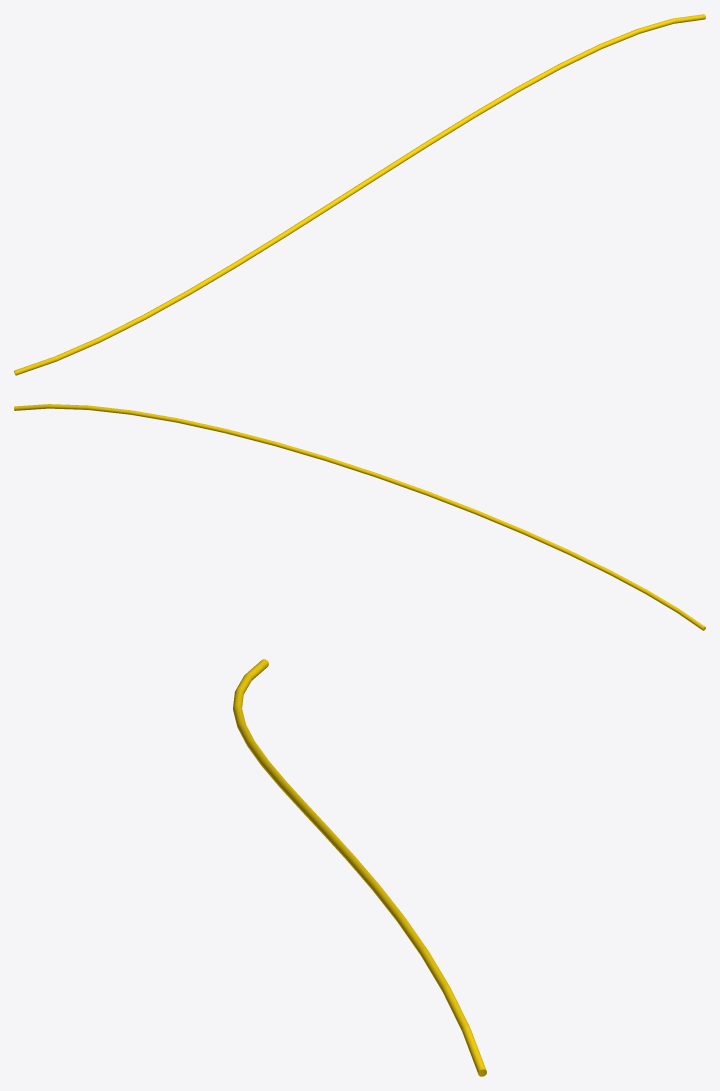
File: Event_421115418_track_105.fbx
3 renders of one model, top to bottom at view 1: azimuth 30°, elevation 25°; view 2: azimuth 150°, elevation 25°; view 3: azimuth 270°, elevation 25°, orthographic. The views are drawn at different scales.
Visible parts, largest first — view 1: Model; view 2: Model; view 3: Model.
Boxes of the visible parts, box(x1,y1,x2,y2) form: Model: box(14, 14, 705, 375); Model: box(14, 404, 705, 630); Model: box(233, 659, 486, 1076).
Size of the model in its own units: 6.45 by 1.16 by 1.12.
